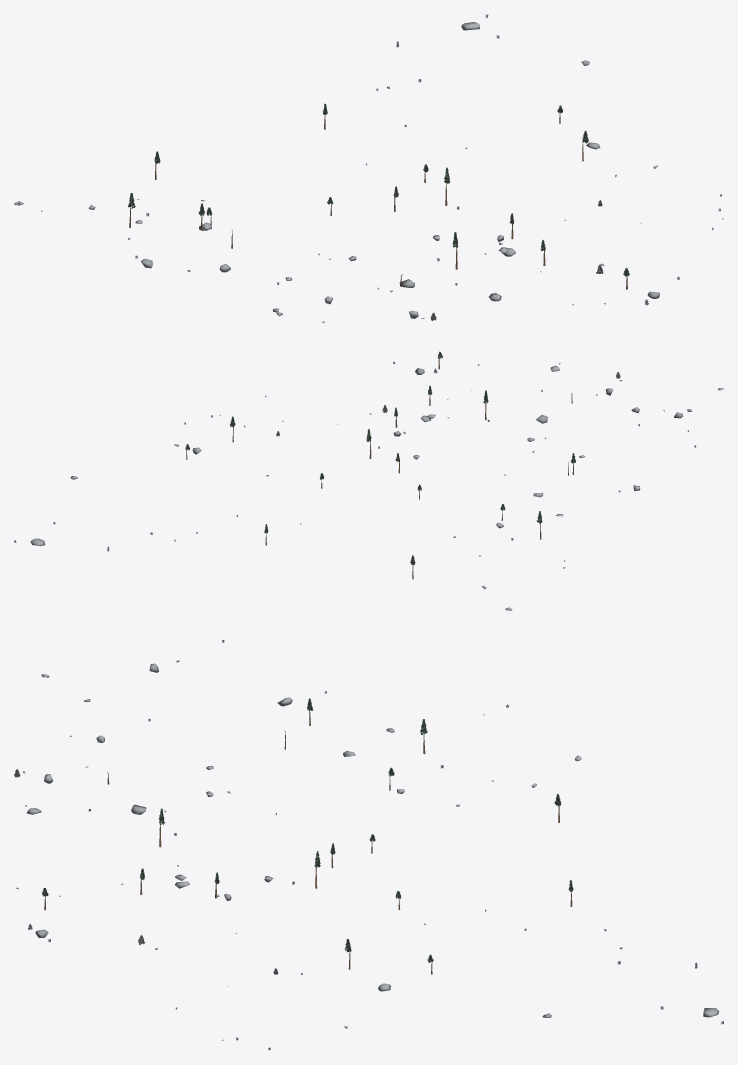
File: frost_land_scatter_c20_11_lod1.glb
3 renders of one model, top to bottom at view 1: azimuth 30°, elevation 25°; view 2: azimuth 150°, elevation 25°; view 3: azimuth 270°, elevation 25°, orthographic. The views are drawn at different scales.
Visible parts, largest first — view 1: frost_land_scatter_c20_11_lod1; view 2: frost_land_scatter_c20_11_lod1; view 3: frost_land_scatter_c20_11_lod1.
Part boxes in pixels (x1=…): frost_land_scatter_c20_11_lod1: x1=14, y1=14, x2=723, y2=322; frost_land_scatter_c20_11_lod1: x1=14, y1=351, x2=723, y2=610; frost_land_scatter_c20_11_lod1: x1=14, y1=640, x2=723, y2=1050.
Bounding box in the file's own units: 252 × 42.81 × 247.
